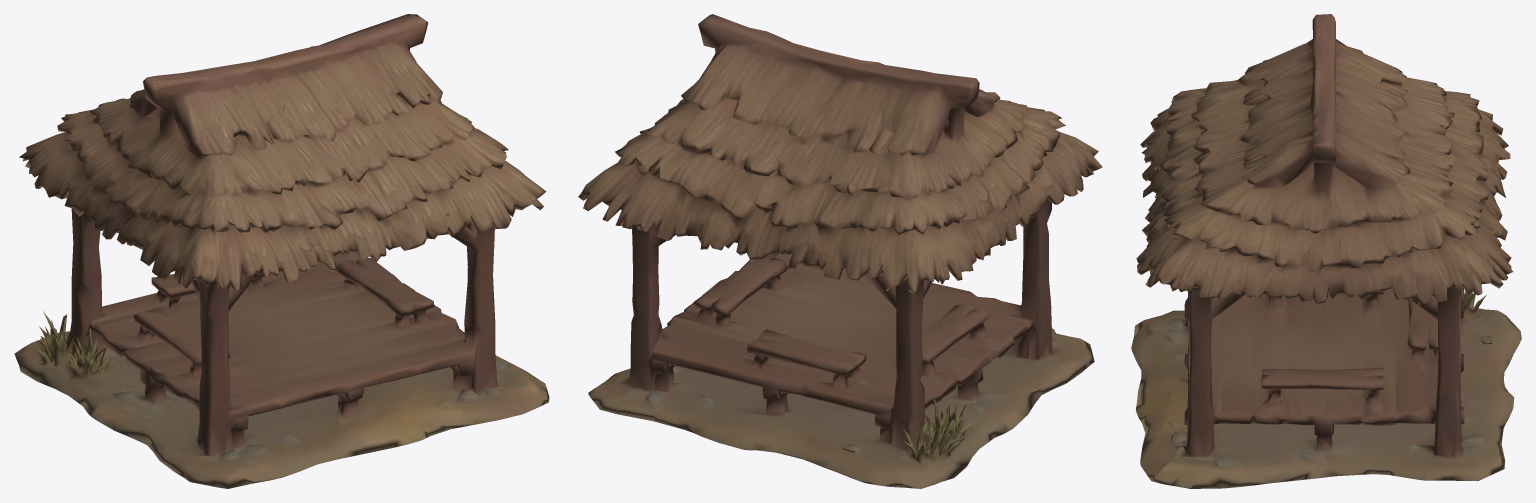
Rendered from festival_ground_pavilion.glb.
3 renders of one model, left to right at view 1: azimuth 30°, elevation 25°; view 2: azimuth 150°, elevation 25°; view 3: azimuth 270°, elevation 25°, orthographic. The views are drawn at different scales.
Visible parts, largest first — view 1: tripo_node_636f40bc-0dad-426a-88dd-287b5be23343; view 2: tripo_node_636f40bc-0dad-426a-88dd-287b5be23343; view 3: tripo_node_636f40bc-0dad-426a-88dd-287b5be23343.
Boxes of the visible parts, <box> form: tripo_node_636f40bc-0dad-426a-88dd-287b5be23343: <box>14,14,549,488</box>; tripo_node_636f40bc-0dad-426a-88dd-287b5be23343: <box>578,14,1102,488</box>; tripo_node_636f40bc-0dad-426a-88dd-287b5be23343: <box>1131,14,1521,488</box>.
Size of the model in its own units: 1 by 0.8342 by 0.9172.
1 material, 1 textured.
